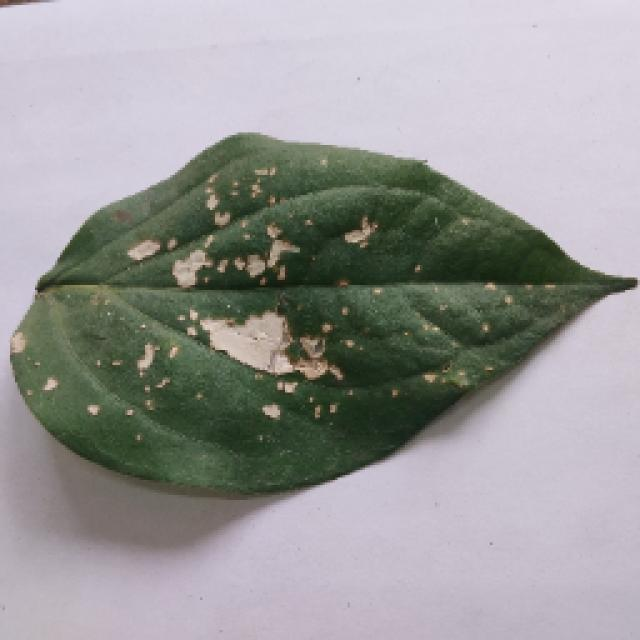pollu-disease: (5, 135, 623, 500)
